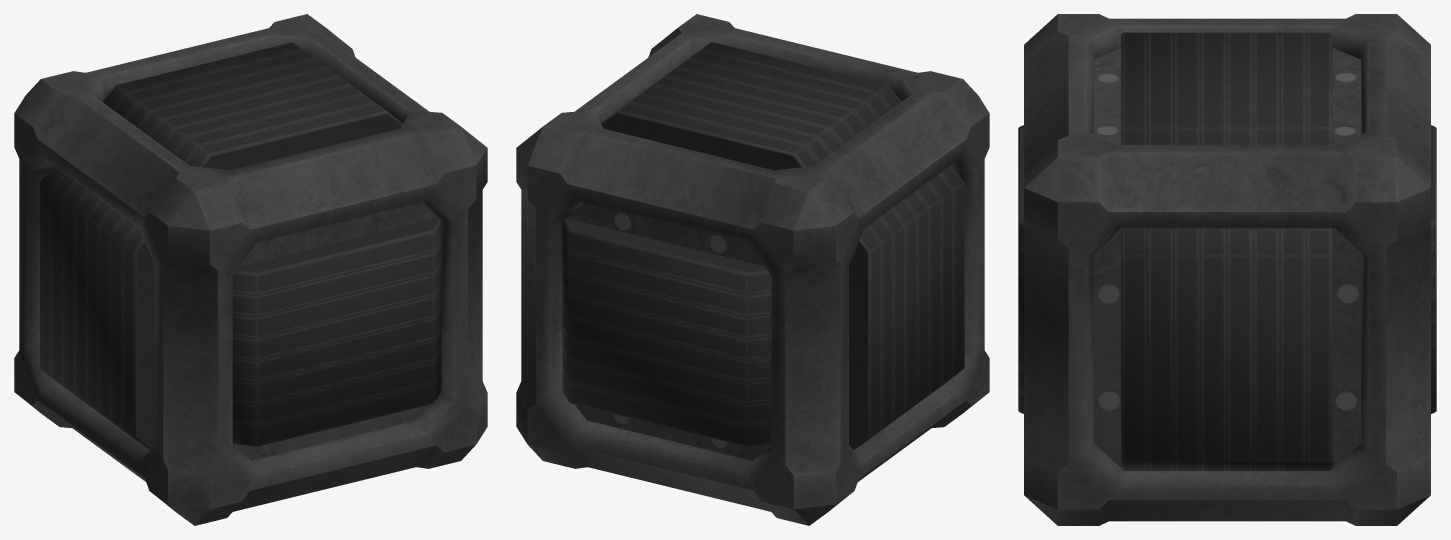
3 views of the same model, side by side, from view 1: azimuth 30°, elevation 25°; view 2: azimuth 150°, elevation 25°; view 3: azimuth 270°, elevation 25° (orthographic). The views are drawn at different scales.
Visible parts, largest first — view 1: Sci-fi Container; view 2: Sci-fi Container; view 3: Sci-fi Container.
Boxes of the visible parts, x1=… form: Sci-fi Container: x1=14, y1=14, x2=487, y2=525; Sci-fi Container: x1=516, y1=14, x2=989, y2=525; Sci-fi Container: x1=1018, y1=14, x2=1436, y2=525.
Size of the model in its own units: 1.04 by 1.04 by 1.04.
1 material, 1 textured.
